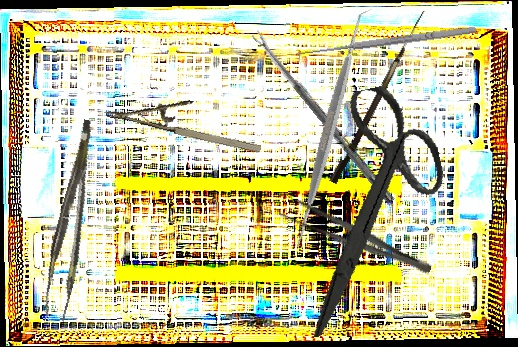Dressing Forceps: (277, 194, 436, 282)
Hook Surgical: (329, 6, 425, 186), (297, 23, 478, 67)
Iris Scissors: (265, 77, 471, 338)
Needle Holder: (102, 79, 269, 158)
Spatula Surgical: (210, 8, 450, 251)
Surgical Spoon: (251, 29, 396, 205)
Tissue Forceps: (32, 119, 116, 322)
